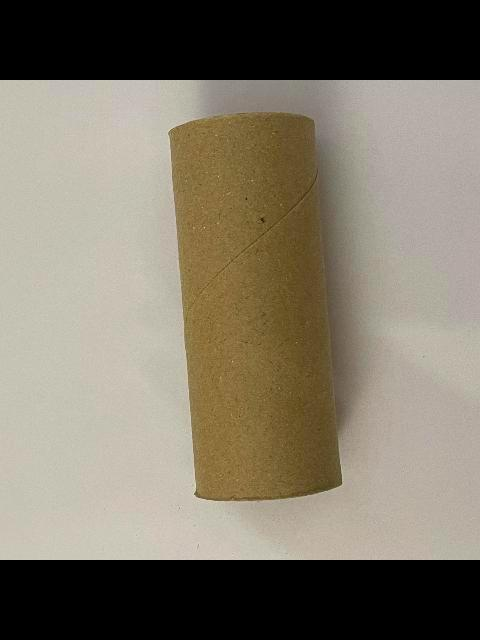tissueroll: (164, 109, 344, 503)
